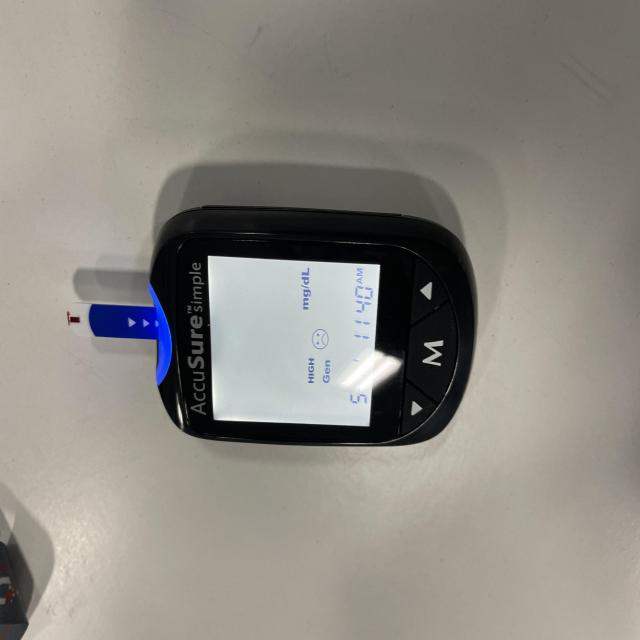gluco: (89, 113, 482, 449)
